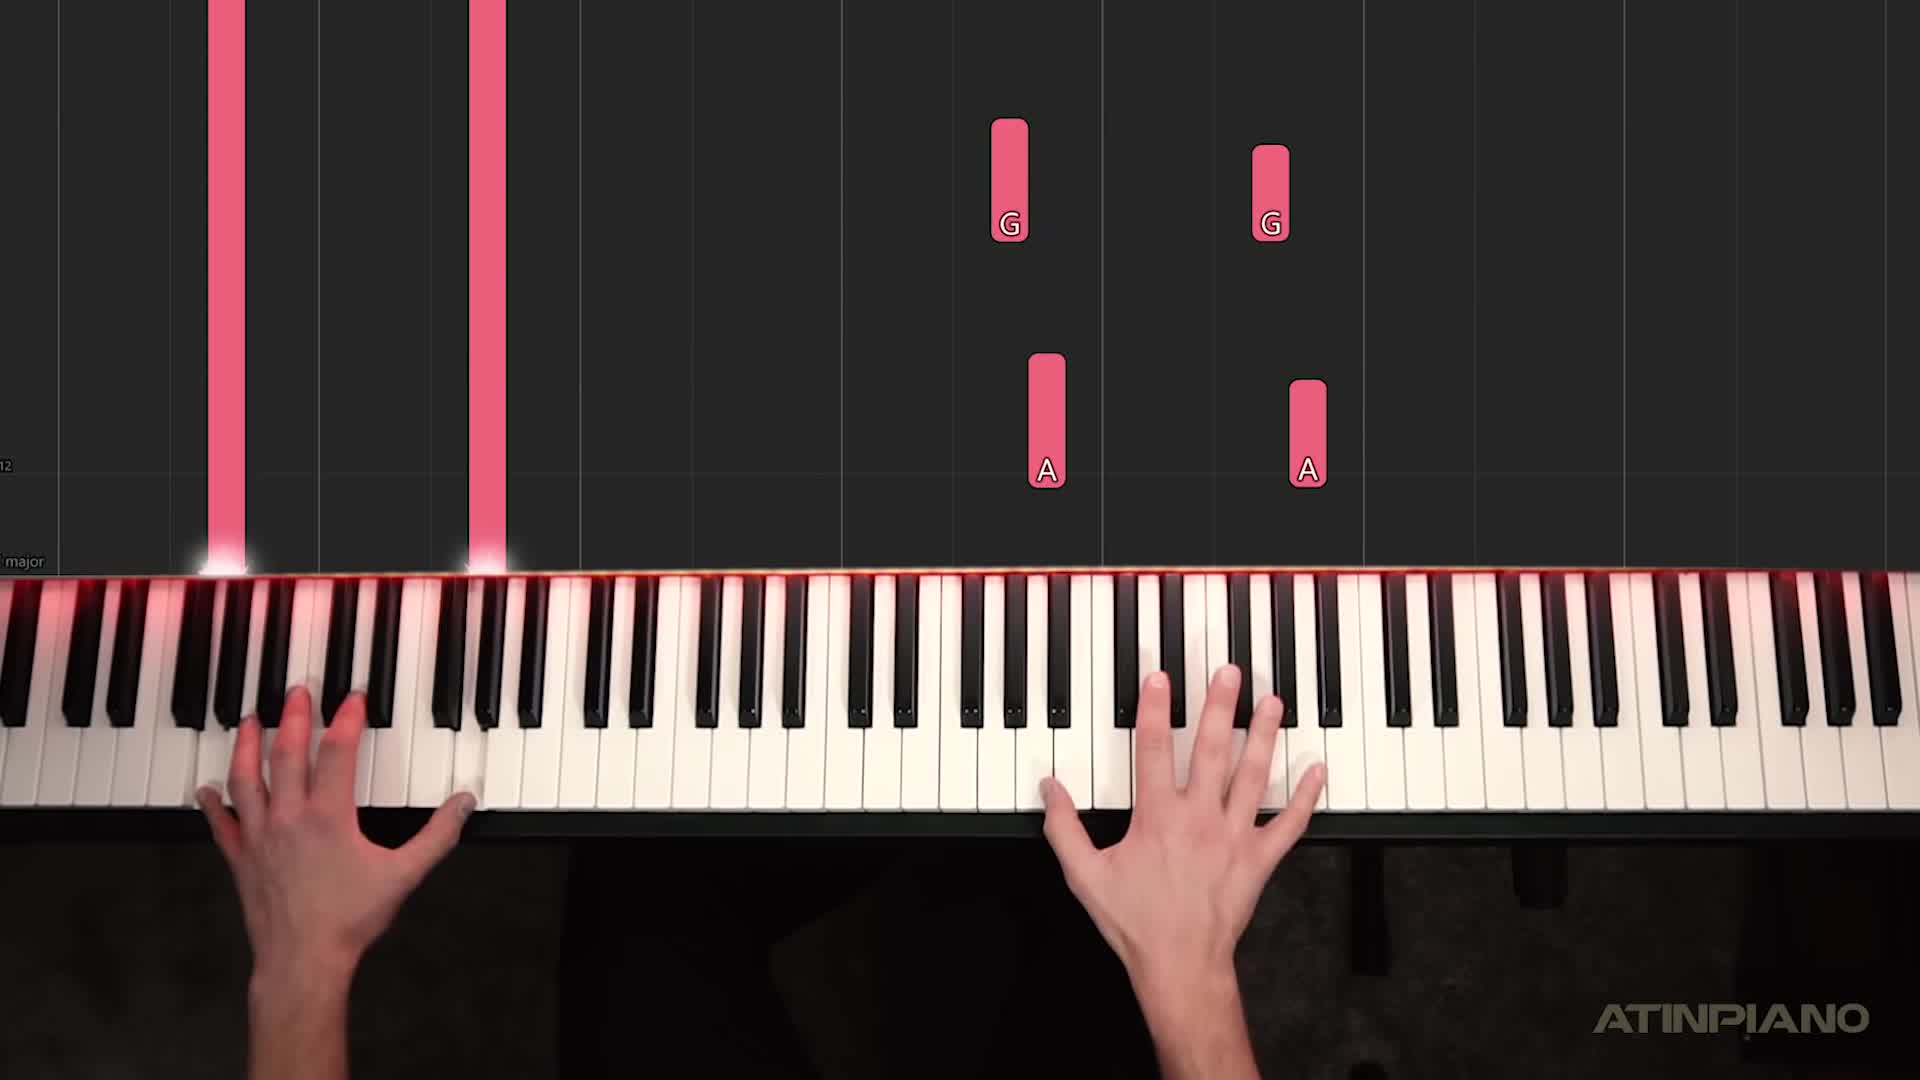left: (191, 676, 477, 945)
right: (1033, 655, 1328, 953)
